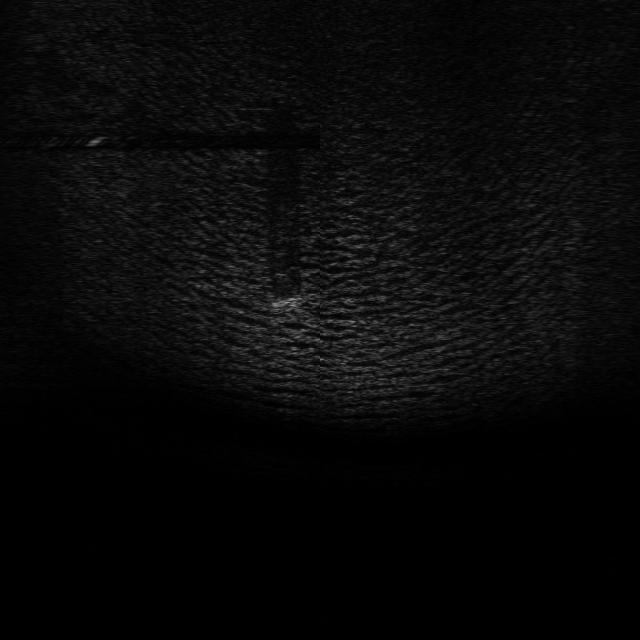cube: (267, 290, 307, 316)
